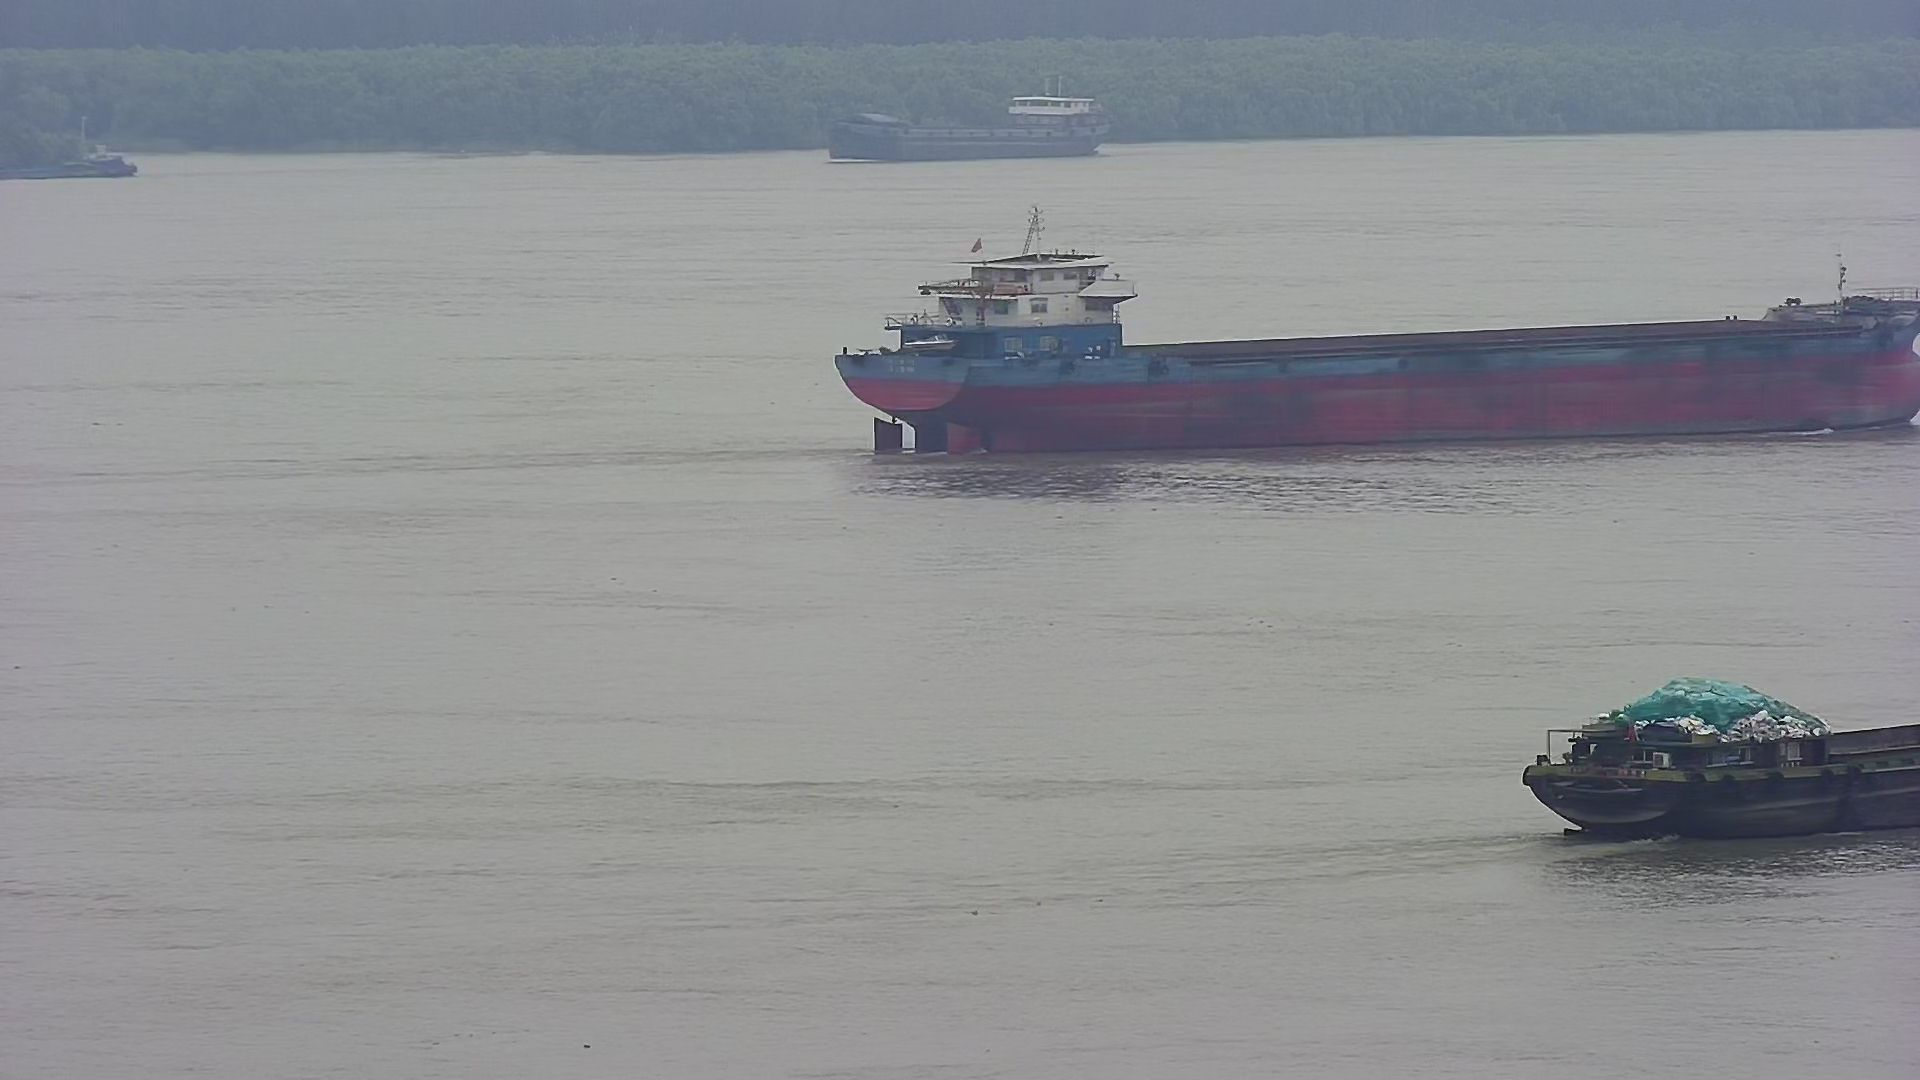boat: (3, 153, 137, 175)
ship: (825, 223, 1920, 459), (1518, 671, 1920, 848), (829, 73, 1113, 160)
